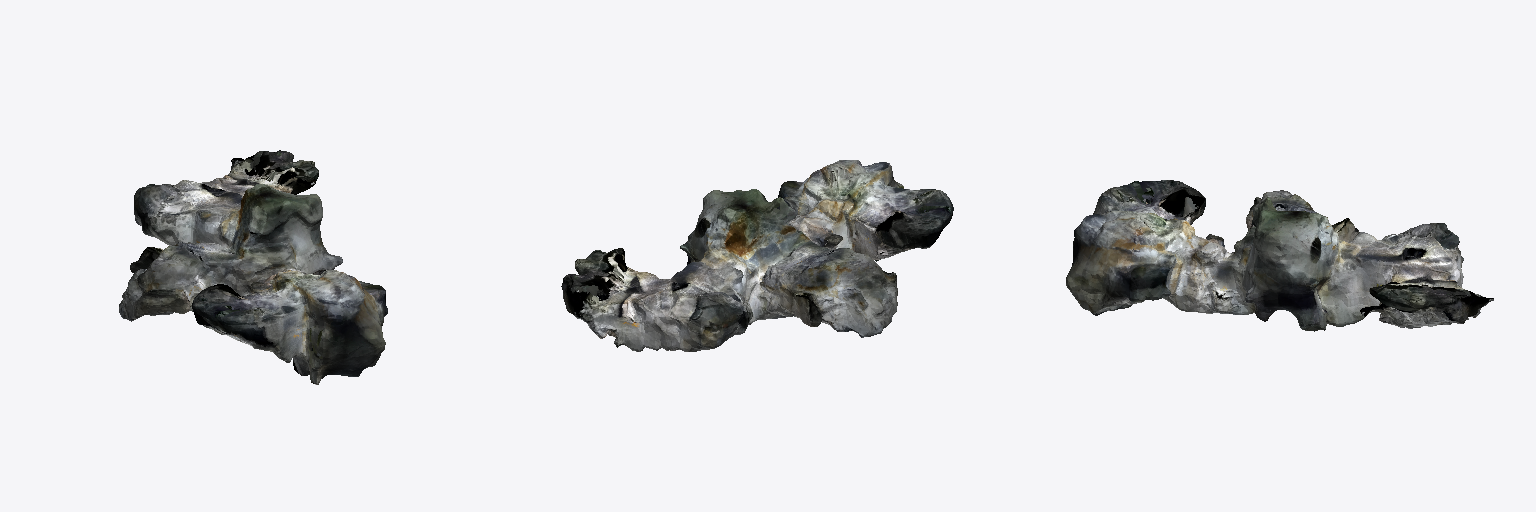
3 renders of one model, left to right at view 1: azimuth 30°, elevation 25°; view 2: azimuth 150°, elevation 25°; view 3: azimuth 270°, elevation 25°, orthographic.
Bounding box in the file's own units: 13.26 × 5.62 × 19.62.
Materials: 1 (1 with a texture image).